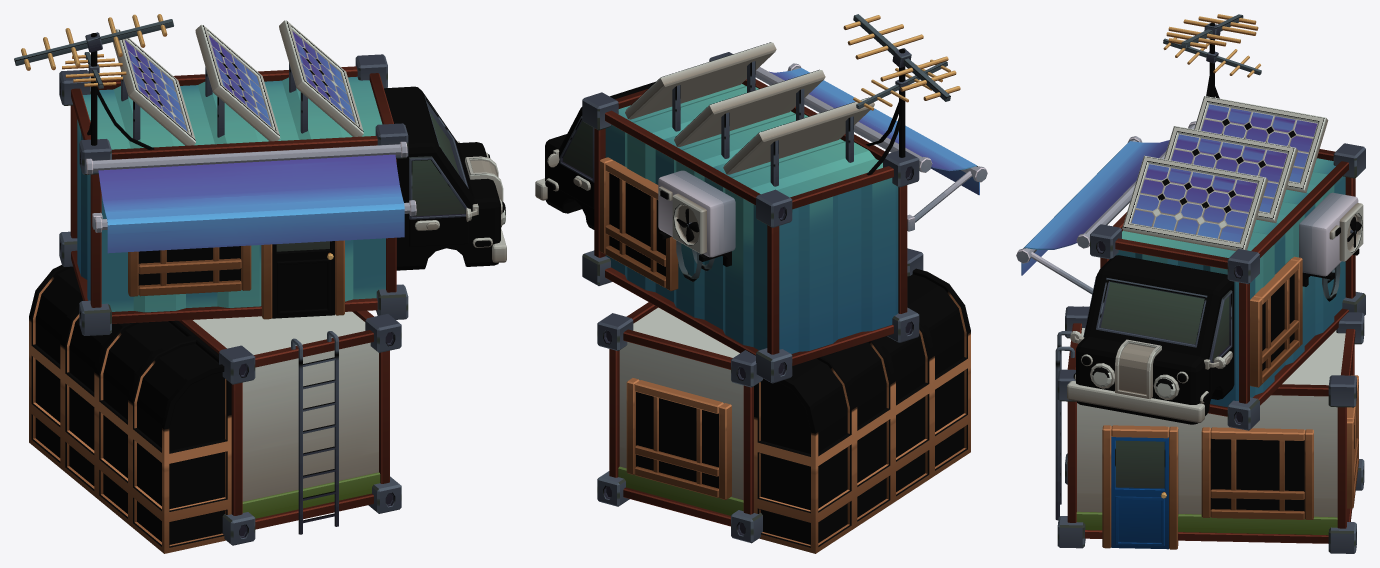
File: house2.fbx
The picture shows the model from 3 angles, left to right: view 1: azimuth 30°, elevation 25°; view 2: azimuth 150°, elevation 25°; view 3: azimuth 270°, elevation 25°; orthographic projection. The views are drawn at different scales.
Parts seen in each view (by area): view 1: finb_house_05.001; view 2: finb_house_05.001; view 3: finb_house_05.001.
Boxes of the visible parts, x1,y1,x2,y2 form: finb_house_05.001: (14, 14, 506, 553); finb_house_05.001: (535, 14, 987, 553); finb_house_05.001: (1016, 14, 1365, 553).
Bounding box in the file's own units: 791 × 802 × 585.
1 material, 1 textured.
